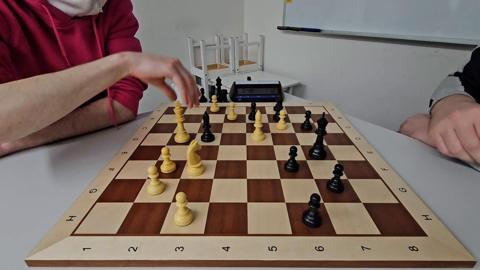xcorner: (241, 109, 250, 118), (200, 109, 209, 118), (217, 128, 226, 137), (193, 128, 202, 137), (209, 174, 218, 183), (176, 174, 185, 183), (143, 174, 152, 183), (283, 109, 291, 118), (262, 109, 270, 118), (221, 109, 229, 118), (180, 109, 188, 118), (286, 118, 295, 126), (219, 118, 228, 126), (315, 128, 323, 137), (291, 128, 299, 137), (266, 128, 274, 137), (242, 128, 250, 137), (169, 128, 177, 137), (215, 141, 224, 149), (309, 175, 318, 183), (243, 198, 251, 207), (205, 198, 213, 207), (304, 109, 312, 117), (309, 118, 317, 126), (264, 118, 272, 126), (242, 118, 250, 126), (197, 118, 205, 126), (175, 118, 183, 126), (323, 141, 331, 149), (296, 141, 304, 149), (269, 141, 277, 149), (242, 141, 250, 149), (189, 141, 197, 149), (162, 141, 170, 149), (332, 156, 340, 164), (302, 156, 310, 164), (272, 156, 280, 164), (242, 156, 250, 164), (213, 156, 221, 164), (183, 156, 191, 164), (154, 156, 162, 164), (343, 175, 351, 183), (276, 175, 284, 183), (243, 175, 251, 183), (358, 199, 366, 207), (319, 199, 327, 207), (281, 199, 289, 207), (168, 198, 176, 206), (130, 198, 138, 206)
